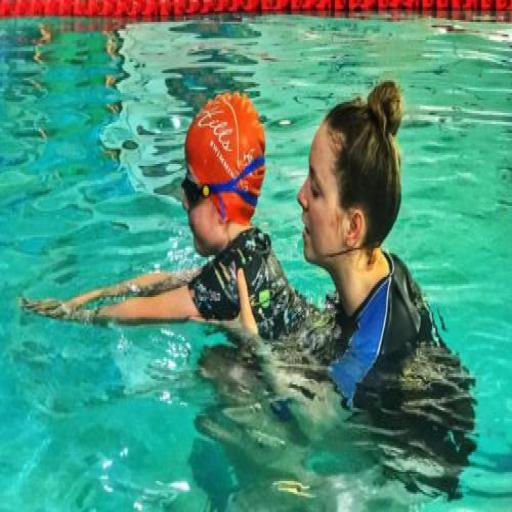swimming: (188, 72, 496, 505), (18, 88, 322, 346)
